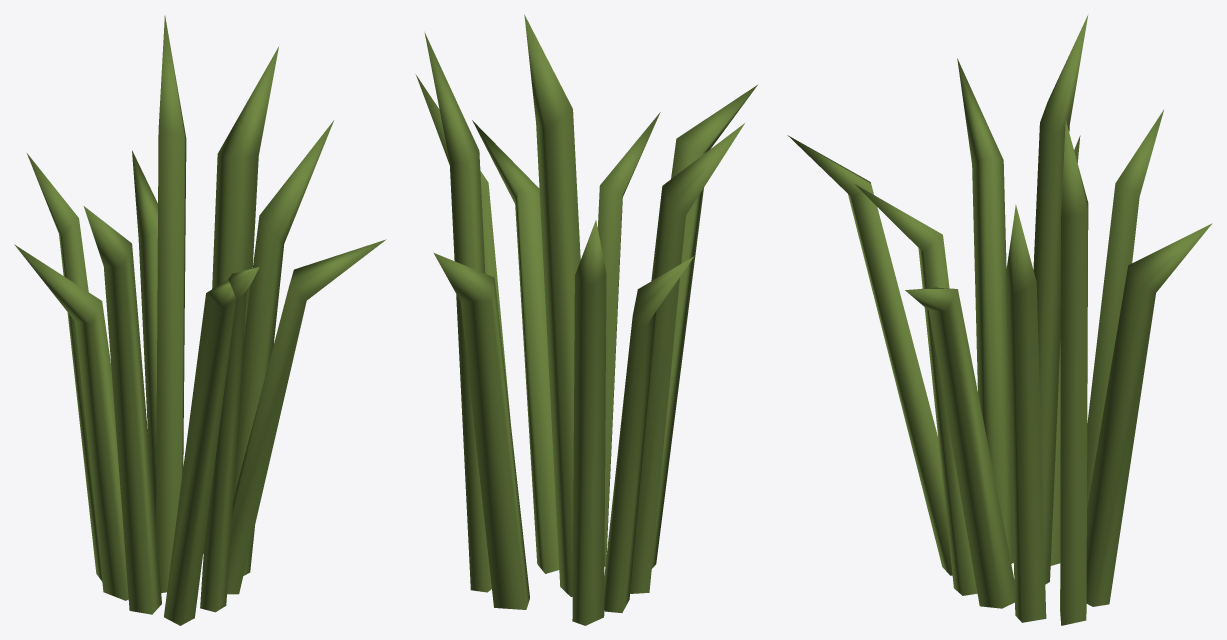
Rendered from rpgpp_ag_grass_tall_01a 1.fbx.
3 views of the same model, side by side, from view 1: azimuth 30°, elevation 25°; view 2: azimuth 150°, elevation 25°; view 3: azimuth 270°, elevation 25° (orthographic). The views are drawn at different scales.
Parts seen in each view (by area): view 1: rpgpp_ag_grass_tall_01a; view 2: rpgpp_ag_grass_tall_01a; view 3: rpgpp_ag_grass_tall_01a.
Boxes of the visible parts, bbox=[...] form: rpgpp_ag_grass_tall_01a: bbox=[14, 15, 386, 625]; rpgpp_ag_grass_tall_01a: bbox=[415, 14, 757, 625]; rpgpp_ag_grass_tall_01a: bbox=[787, 14, 1212, 625].
Bounding box in the file's own units: 0.9752 × 1.76 × 1.17.
